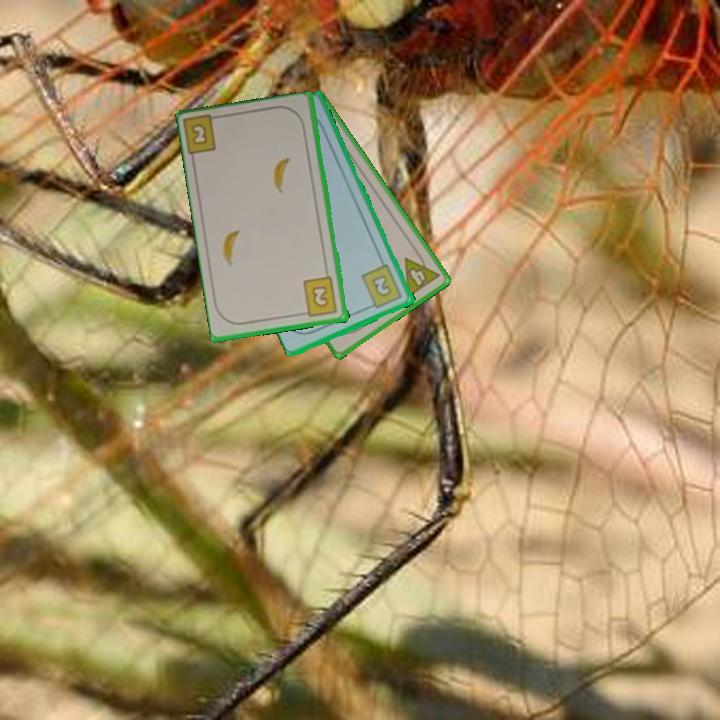2b: (358, 261, 405, 312), (182, 112, 226, 159), (298, 274, 340, 320)
4p: (401, 247, 443, 300)
